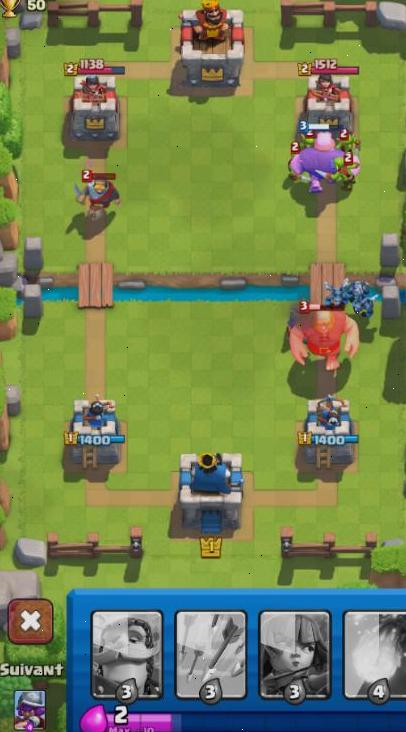enemy_giant: (282, 304, 363, 374)
enemy_goblins: (312, 151, 365, 195), (336, 129, 363, 155)
enemy_knight: (69, 166, 128, 218)
player_giant: (282, 127, 361, 194)
player_minions: (322, 277, 362, 305), (350, 287, 382, 316)
